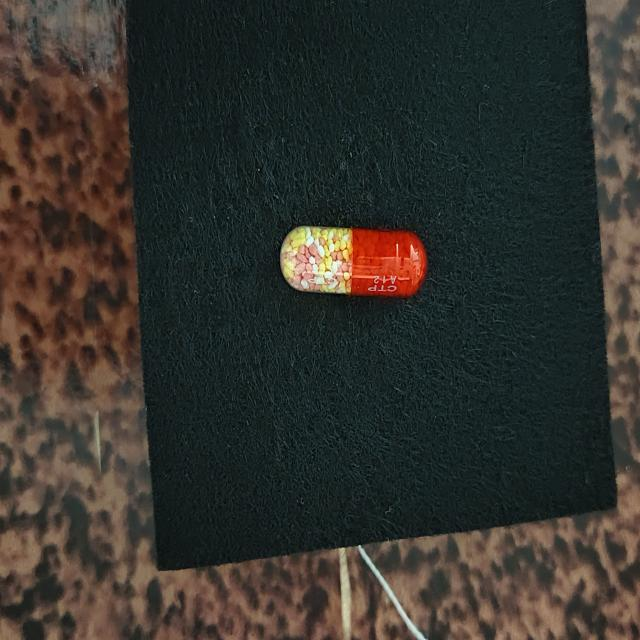Intact Capsule: (280, 226, 427, 297)
